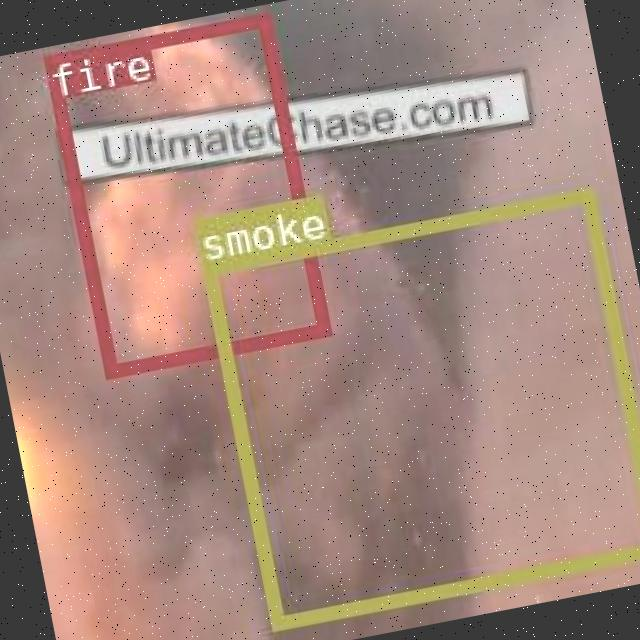fire: (43, 12, 330, 376)
smoke: (200, 187, 640, 628)
